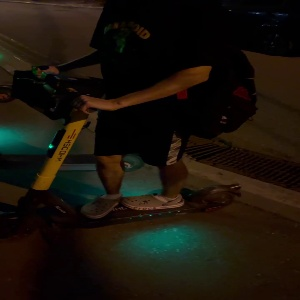human on a scooter: (1, 2, 260, 245)
